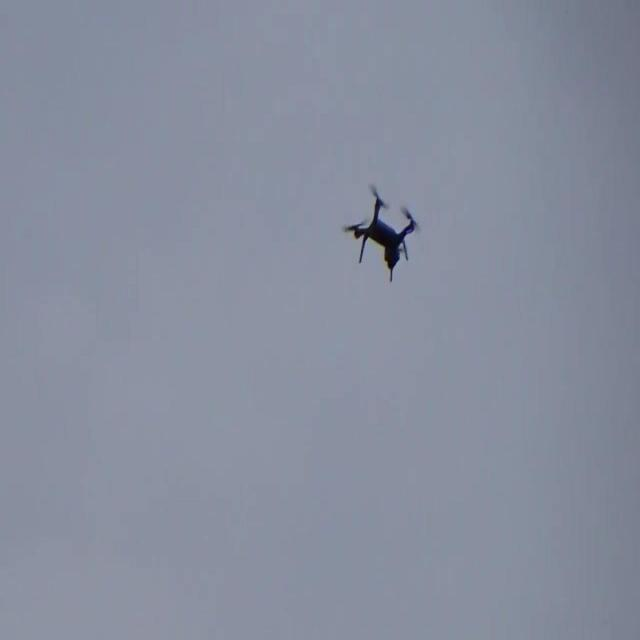UAV: (342, 183, 421, 283)
